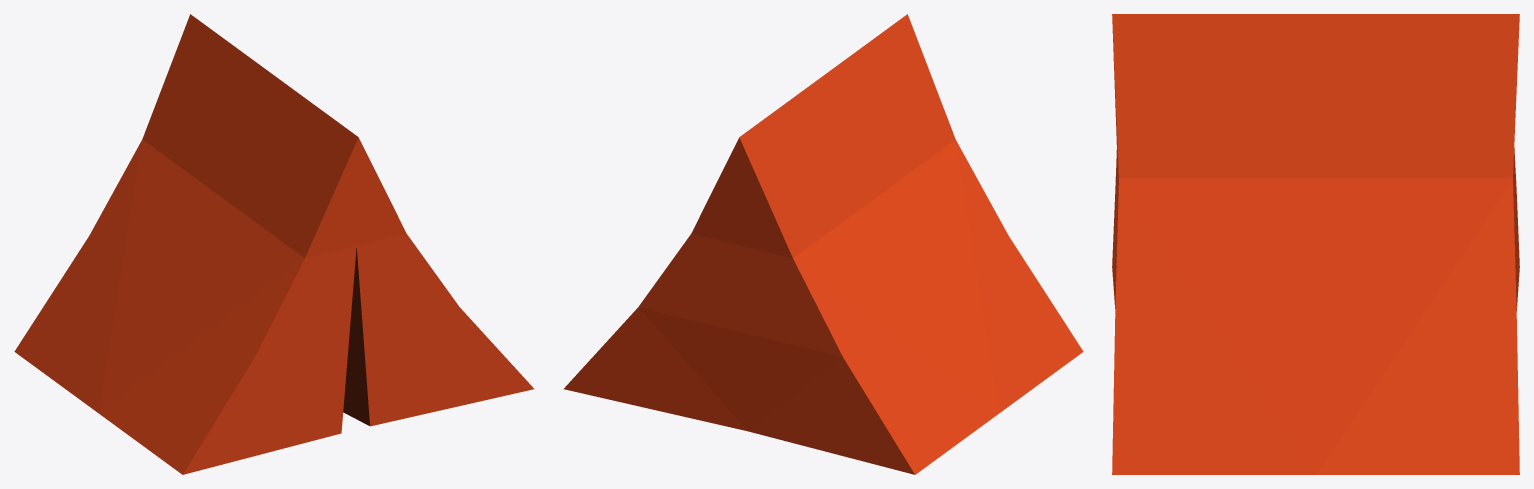
Rendered from tent_02.fbx.
3 renders of one model, left to right at view 1: azimuth 30°, elevation 25°; view 2: azimuth 150°, elevation 25°; view 3: azimuth 270°, elevation 25°, orthographic. The views are drawn at different scales.
Visible parts, largest first — view 1: tent_02; view 2: tent_02; view 3: tent_02.
Boxes of the visible parts, bbox=[...] form: tent_02: bbox=[14, 14, 534, 474]; tent_02: bbox=[563, 14, 1083, 474]; tent_02: bbox=[1112, 14, 1519, 474].
Size of the model in its own units: 281 by 225 by 233.
